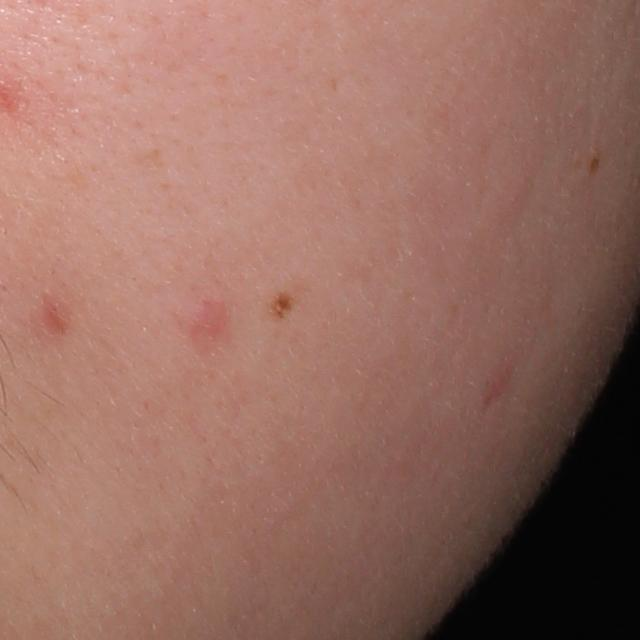nevus: (272, 295, 293, 326), (587, 154, 605, 175)
